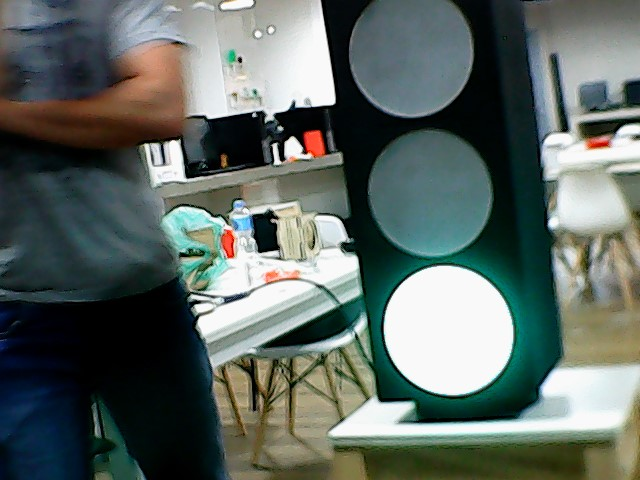verde: (316, 1, 570, 411)
